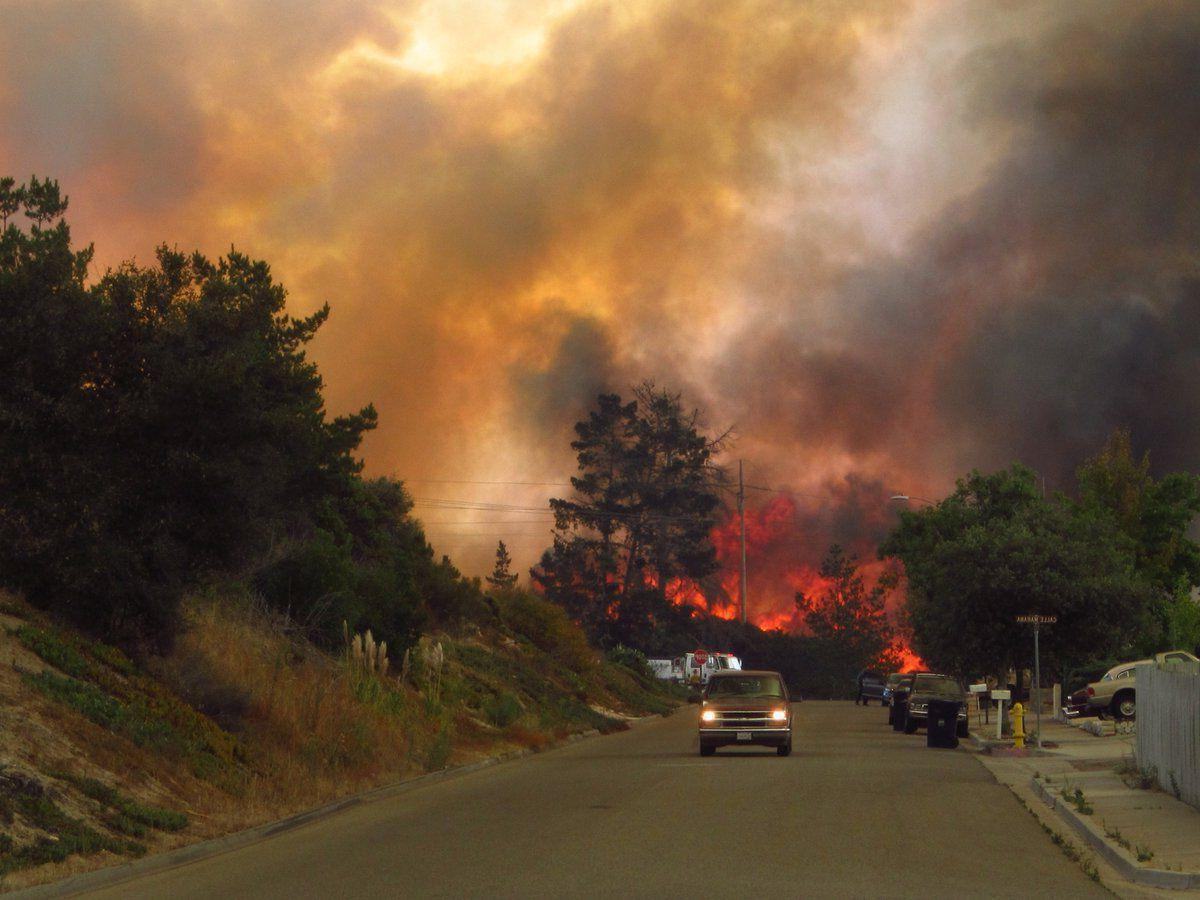Fire: (602, 491, 935, 677)
